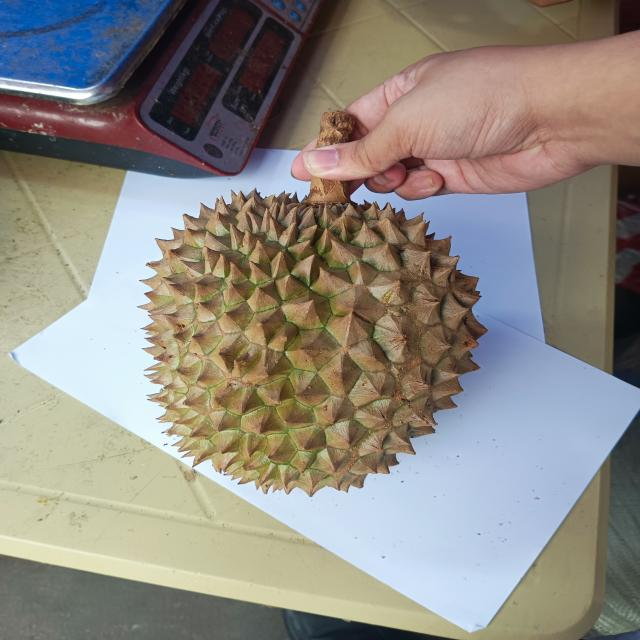mature: (137, 183, 485, 496)
